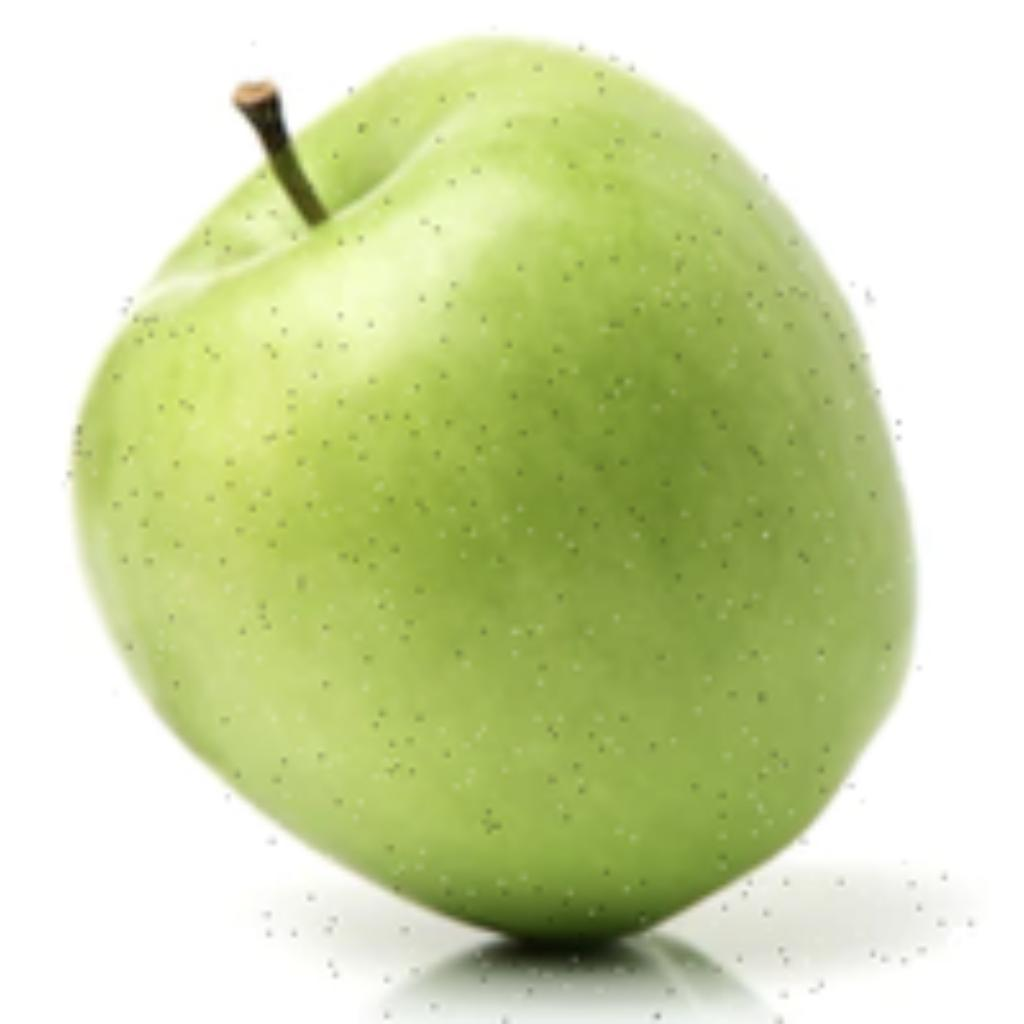apple: (56, 20, 922, 1019)
